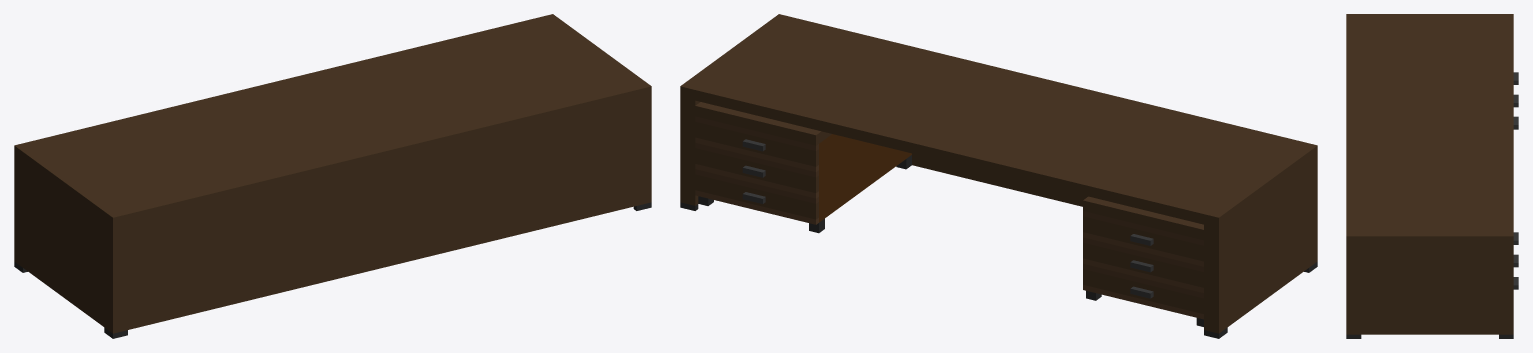
Rendered from Desk7-1.fbx.
3 renders of one model, left to right at view 1: azimuth 30°, elevation 25°; view 2: azimuth 150°, elevation 25°; view 3: azimuth 270°, elevation 25°, orthographic. The views are drawn at different scales.
Visible parts, largest first — view 1: Desk7-1.001; view 2: Desk7-1.001; view 3: Desk7-1.001.
Part boxes in pixels (x1,y1,x2,y2): Desk7-1.001: [14, 14, 651, 338]; Desk7-1.001: [680, 14, 1317, 338]; Desk7-1.001: [1346, 14, 1518, 338].
Bounding box in the file's own units: 10.7 × 2.3 × 3.5.
